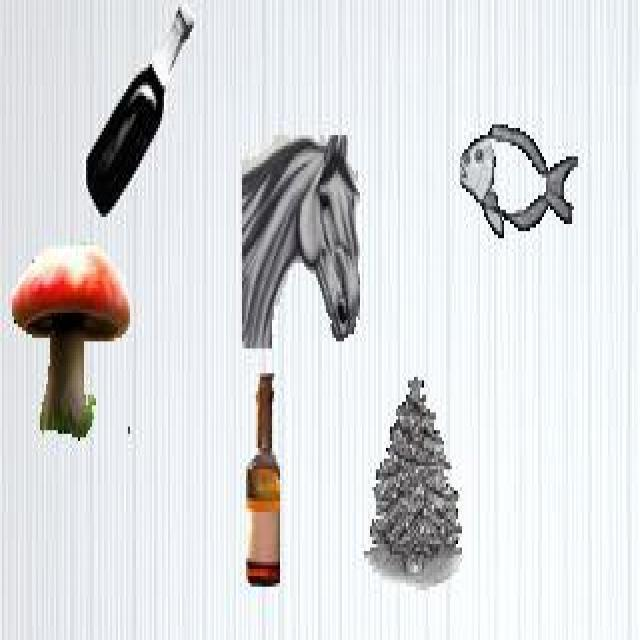Other Objects: (10, 243, 130, 440), (85, 6, 194, 220), (245, 370, 282, 590)
